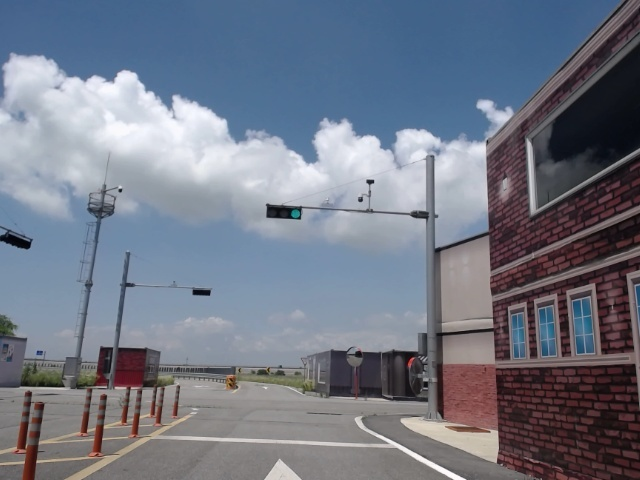green_3: (263, 200, 306, 223)
